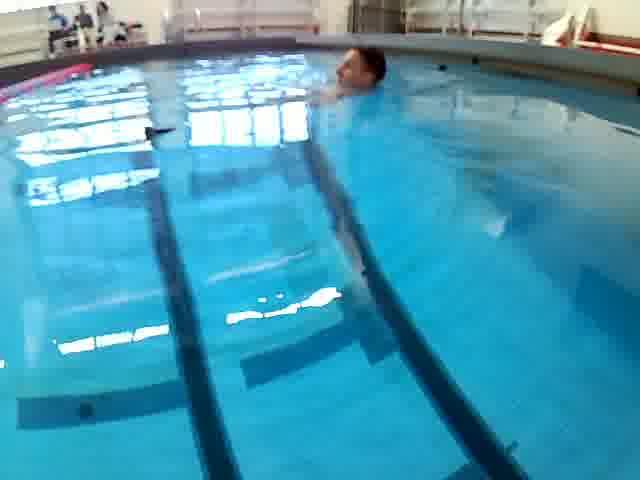CamMount: (143, 119, 180, 144)
